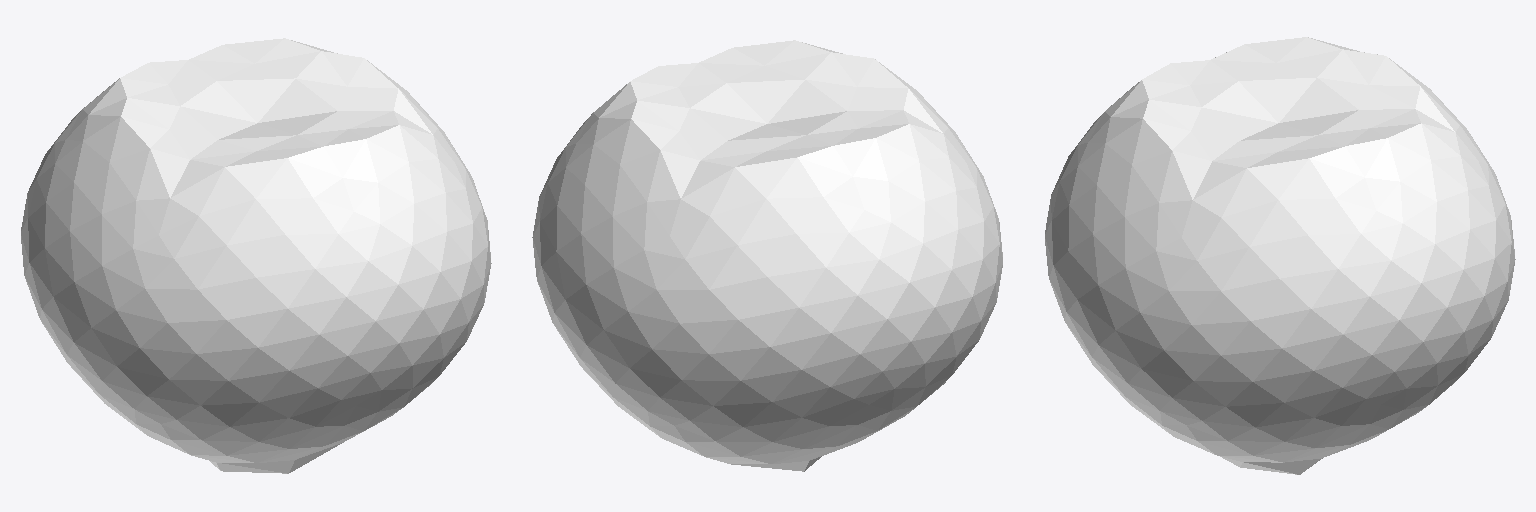
The robot description file, URDF, robot "strawberry":
<?xml version="1.0"?>

<robot name="strawberry">
  <link name="strawberry">
    <gravity>false</gravity>
    <inertial>
       <mass value="0.02"/>
       <inertia
        ixx="0.0007"
        ixy="0"
        ixz="0"
        iyy="0.0007"
        iyz="0"
        izz="0.007" />
    </inertial>
    <collision>
        <geometry><box size="0.0001 0.0001 0.0001" /></geometry>
          <surface>
            <contact>
              <collide_without_contact>true</collide_without_contact>
            </contact>
          </surface>
    </collision>
    <visual>
      <geometry>
        <mesh filename="package://milkshake_demo/models/strawberry/meshes/strawberry.dae"/>
      </geometry>
    </visual>
  </link>
</robot>

--- Facts derived from the render (not from the file) ---
The picture shows the robot from 3 angles, left to right: view 1: azimuth 30°, elevation 25°; view 2: azimuth 150°, elevation 25°; view 3: azimuth 270°, elevation 25°; orthographic projection.
Model strawberry with 1 links and 0 joints (none), rooted at strawberry, posed all joints at 0.
Links seen in each view (by area): view 1: strawberry; view 2: strawberry; view 3: strawberry.
Boxes of the visible links, x1,y1,x2,y2 form: strawberry: (21,38,491,473); strawberry: (532,40,1002,471); strawberry: (1045,37,1515,474).
Size in the robot's own frame: 0.0424 by 0.0425 by 0.0364 metres.
Meshes: 1 distinct files referenced, 1 mesh visuals loaded (1 Collada DAE).